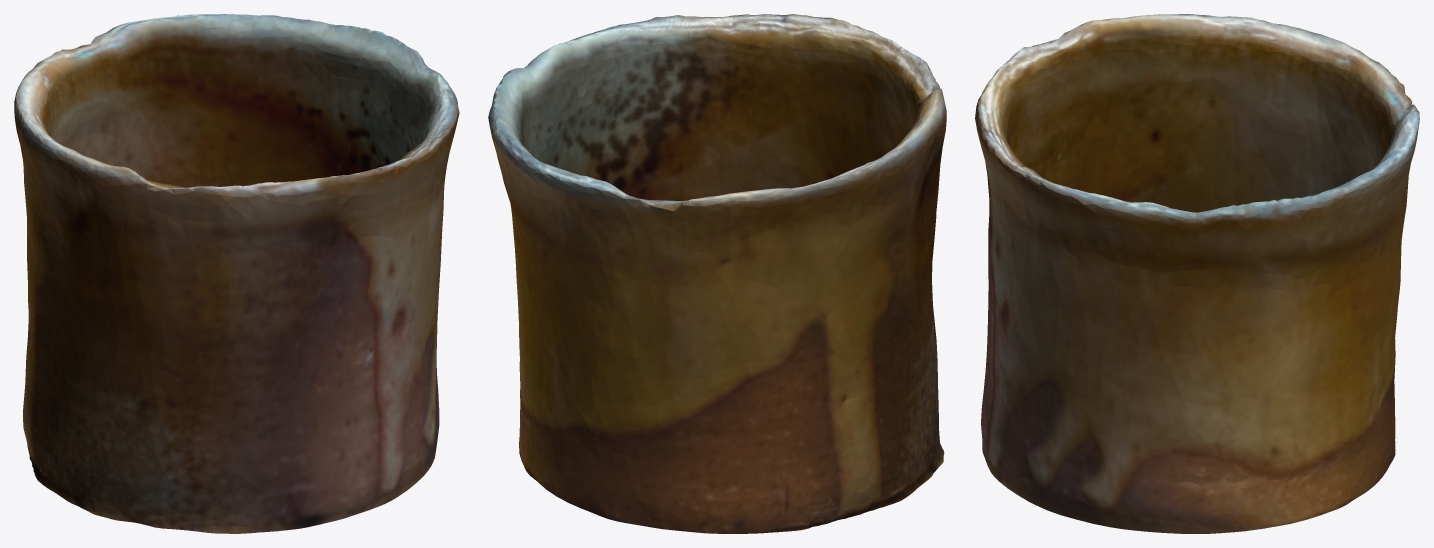
Rendered from metascan_20230106-1452_Wood_fired_cup.glb.
3 views of the same model, side by side, from view 1: azimuth 30°, elevation 25°; view 2: azimuth 150°, elevation 25°; view 3: azimuth 270°, elevation 25° (orthographic).
Bounding box in the file's own units: 0.0859 × 0.074 × 0.085.
1 material, 1 textured.
